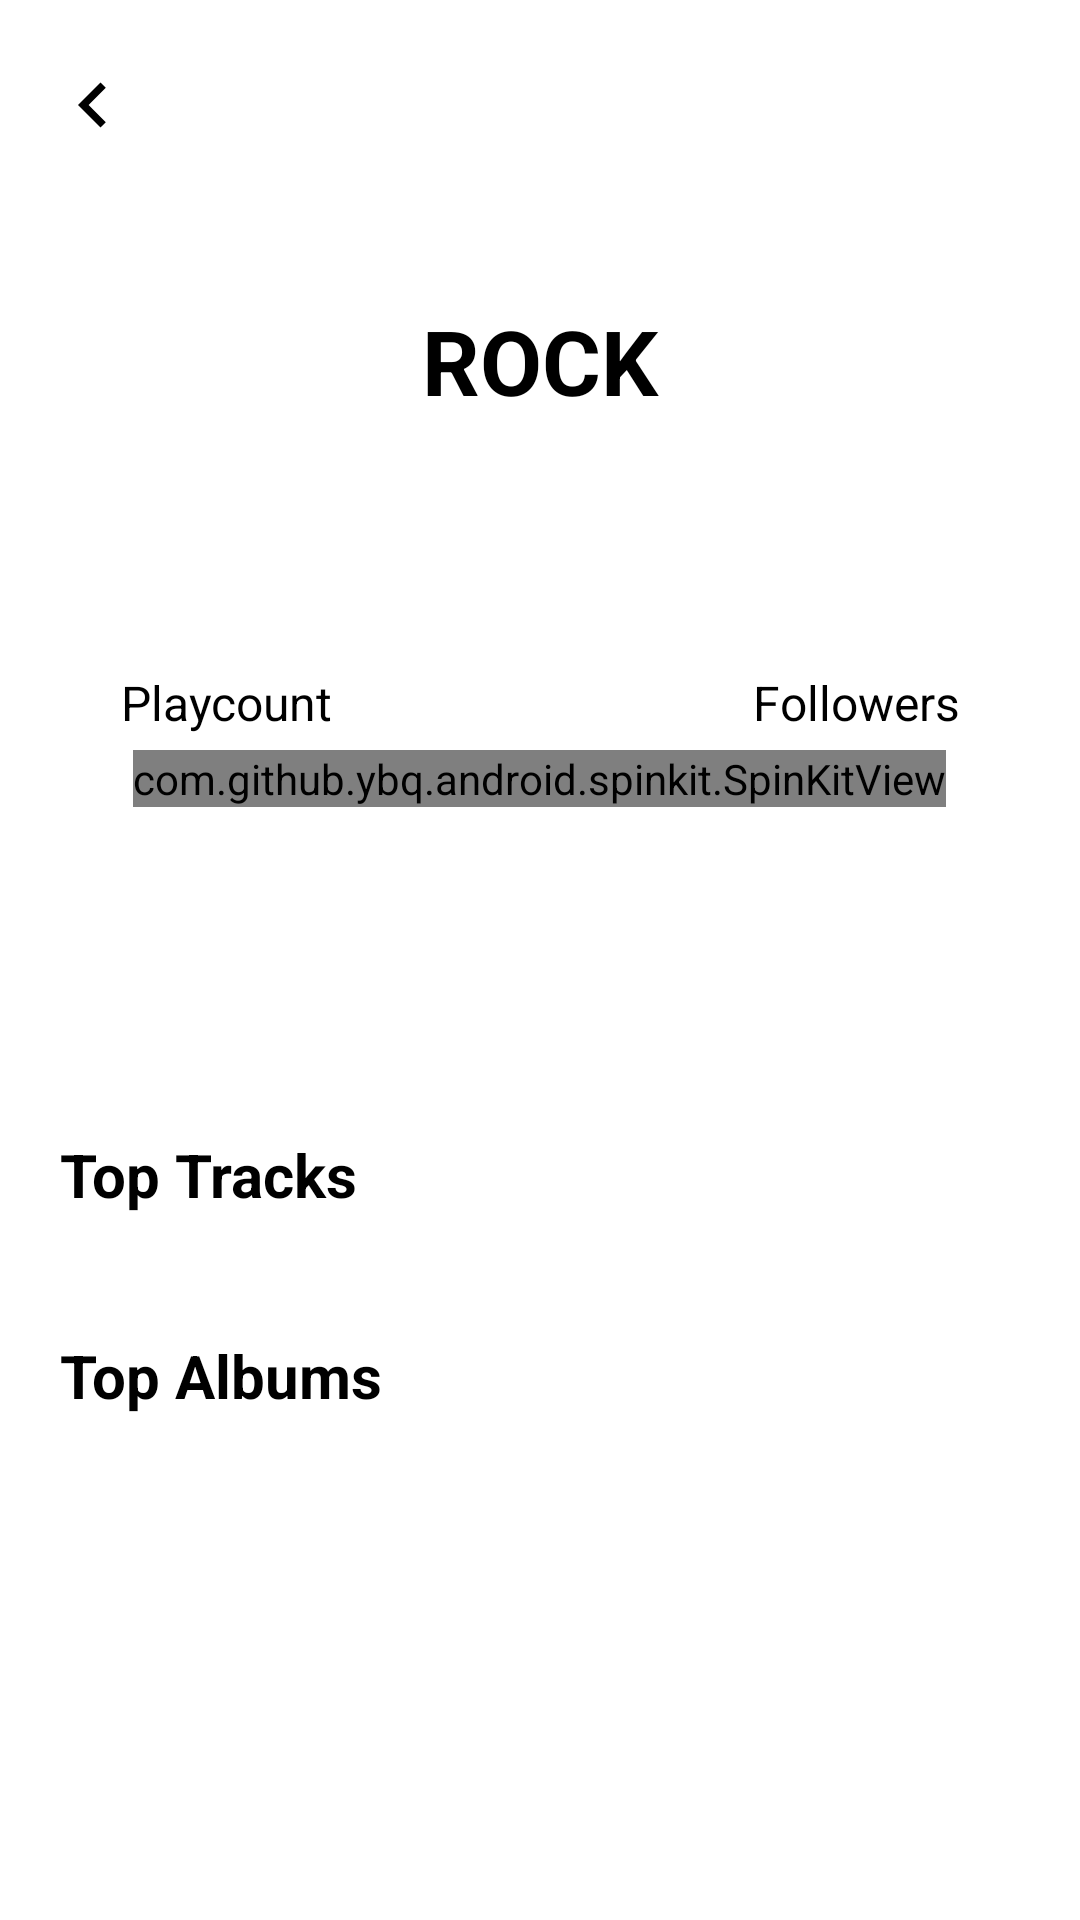

Screen size 1080px x 1920px. Icon name, then its center in pixels as point (x, y):
back: point (92, 105)
